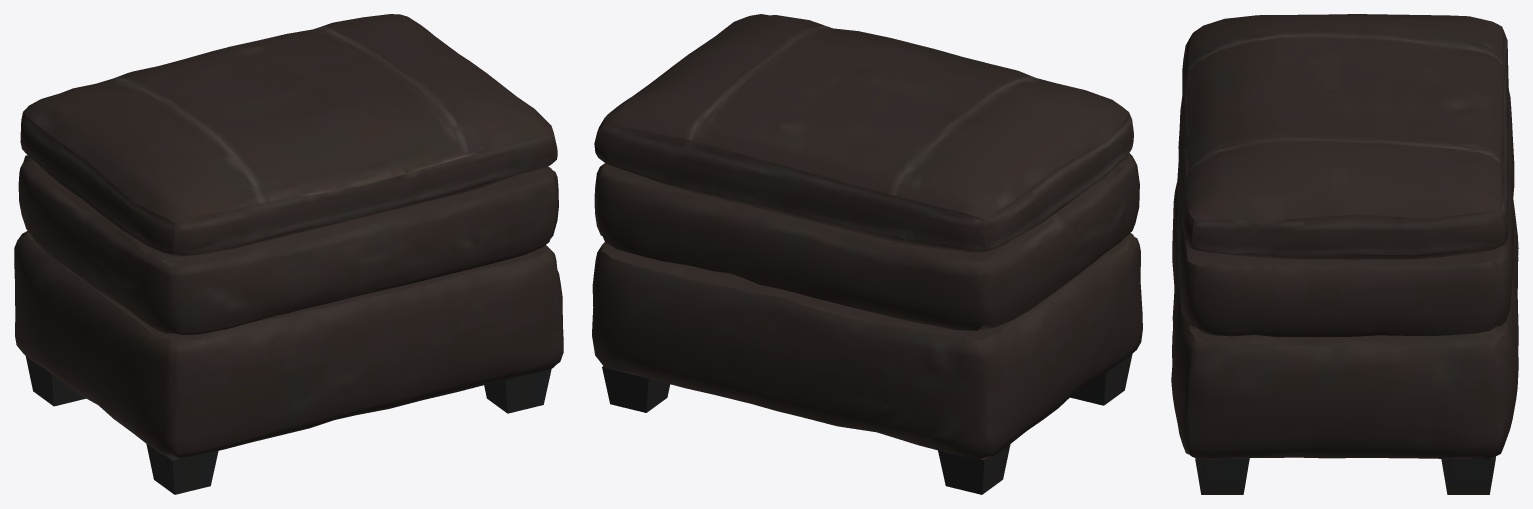
File: Ottoman_01.glb
3 renders of one model, left to right at view 1: azimuth 30°, elevation 25°; view 2: azimuth 150°, elevation 25°; view 3: azimuth 270°, elevation 25°, orthographic.
Parts seen in each view (by area): view 1: Ottoman_01; view 2: Ottoman_01; view 3: Ottoman_01.
Boxes of the visible parts, x1,y1,x2,y2 form: Ottoman_01: (14,14,563,494); Ottoman_01: (592,14,1142,494); Ottoman_01: (1171,14,1518,494).
Bounding box in the file's own units: 0.8846 × 0.6243 × 0.6212.
1 material, 1 textured.
